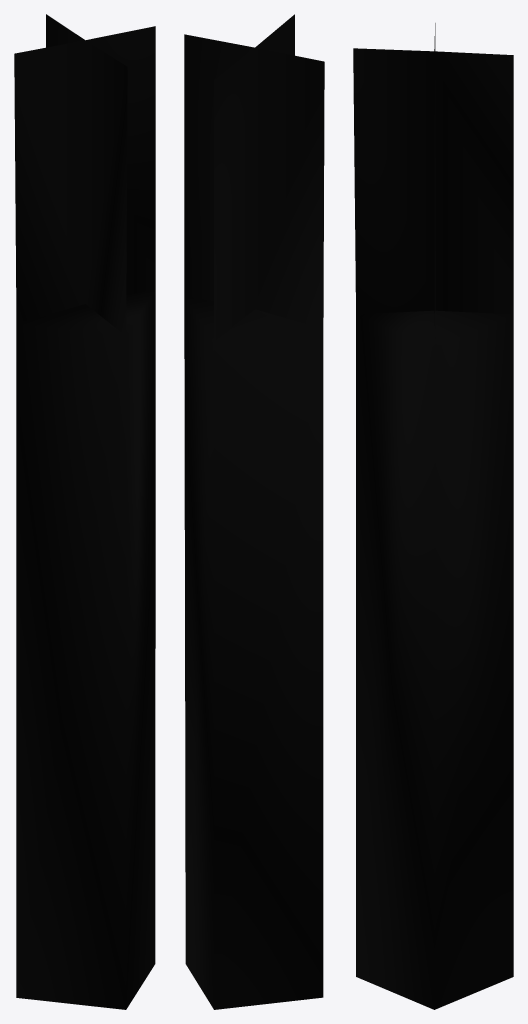
3 renders of one model, left to right at view 1: azimuth 30°, elevation 25°; view 2: azimuth 150°, elevation 25°; view 3: azimuth 270°, elevation 25°, orthographic.
Parts seen in each view (by area): view 1: T1L1M004_9; view 2: T1L1M004_9; view 3: T1L1M004_9.
Boxes of the visible parts, box(x1,y1,x2,y2) form: T1L1M004_9: box(14, 14, 155, 1009); T1L1M004_9: box(184, 14, 324, 1009); T1L1M004_9: box(353, 23, 513, 1009).
Bounding box in the file's own units: 0.166 × 1.06 × 0.166.
